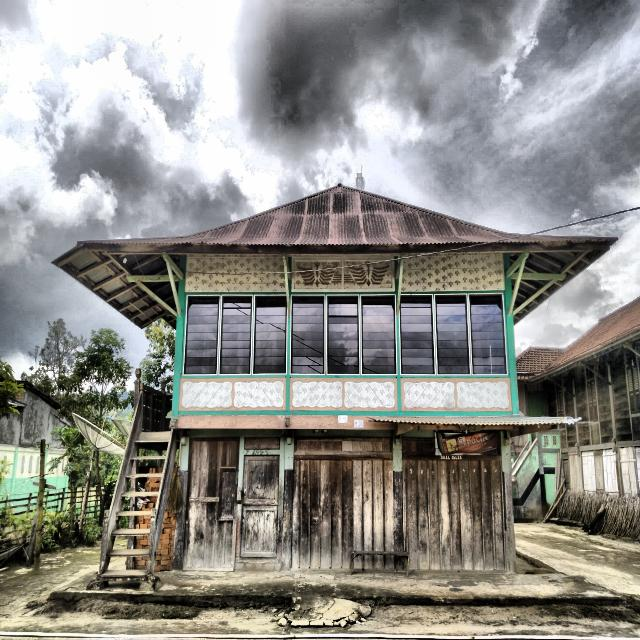column: (172, 435, 190, 571), (501, 430, 517, 574), (282, 435, 294, 572), (393, 436, 404, 552)
door: (240, 454, 280, 557)
ornamen: (289, 377, 397, 411), (401, 378, 512, 411), (179, 378, 286, 411)
roof: (54, 184, 615, 327), (516, 298, 640, 380), (370, 416, 581, 436)
stair: (97, 383, 179, 581)
wall: (399, 253, 513, 416), (179, 253, 288, 415), (289, 255, 398, 416), (402, 437, 506, 573), (291, 436, 394, 570), (182, 437, 285, 571), (573, 365, 614, 446), (609, 347, 640, 442)
window: (468, 293, 507, 375), (434, 294, 471, 375), (183, 295, 220, 375), (361, 295, 397, 374), (400, 294, 435, 374), (290, 295, 325, 375), (252, 295, 287, 374), (219, 295, 253, 375), (327, 295, 360, 374), (626, 364, 640, 414), (586, 379, 598, 423), (556, 391, 565, 417)
